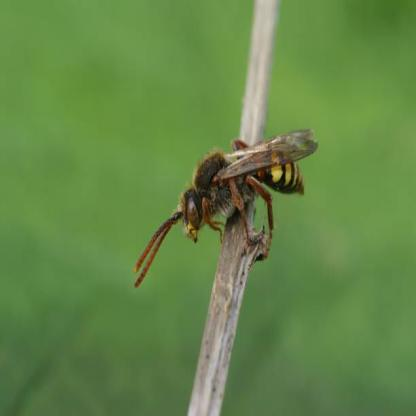sawfly: (132, 122, 326, 306)
